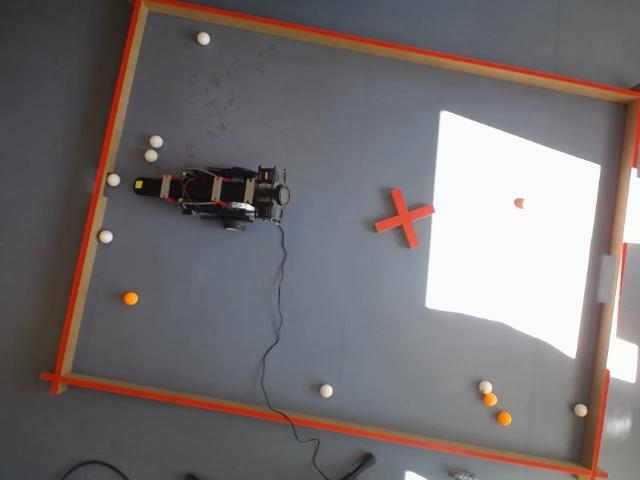orange: (123, 291, 138, 306), (497, 412, 512, 425), (484, 393, 497, 406)
robot: (133, 166, 290, 231)
robot-front: (134, 178, 158, 196)
white: (149, 135, 164, 148), (320, 384, 333, 398), (99, 230, 113, 243), (144, 149, 158, 162), (574, 404, 587, 417), (479, 381, 492, 394), (197, 32, 210, 45), (107, 174, 120, 187)
